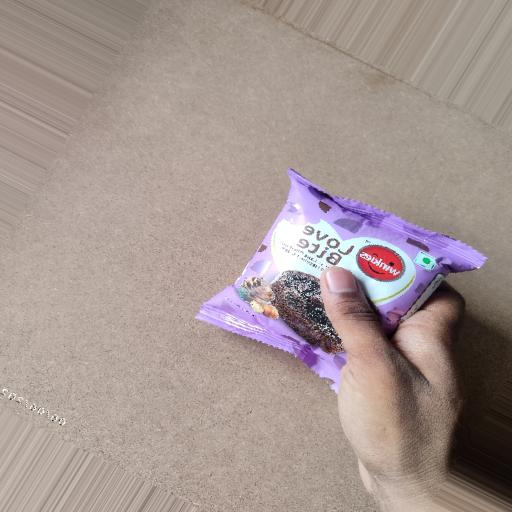Winkies Love Bite cake: (169, 142, 504, 451)
